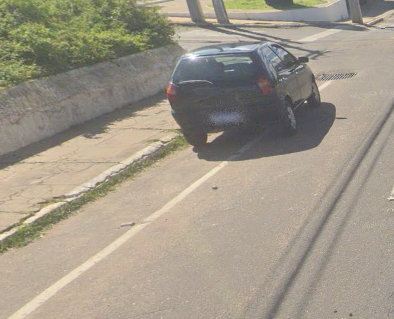car: (159, 27, 326, 168)
